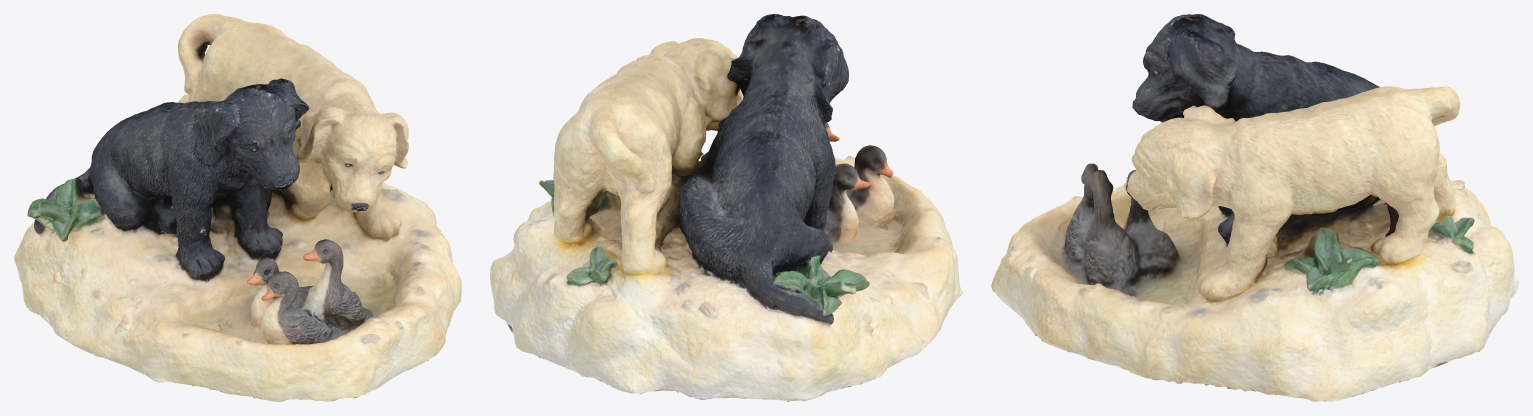
File: chance-meeting.glb
3 views of the same model, side by side, from view 1: azimuth 30°, elevation 25°; view 2: azimuth 150°, elevation 25°; view 3: azimuth 270°, elevation 25° (orthographic). The views are drawn at different scales.
Visible parts, largest first — view 1: Object_2; view 2: Object_2; view 3: Object_2.
Boxes of the visible parts, <box> form: Object_2: <box>14,14,461,401</box>; Object_2: <box>490,14,962,401</box>; Object_2: <box>991,14,1518,401</box>.
Size of the model in its own units: 2.68 by 1.65 by 2.95.
1 material, 1 textured.
